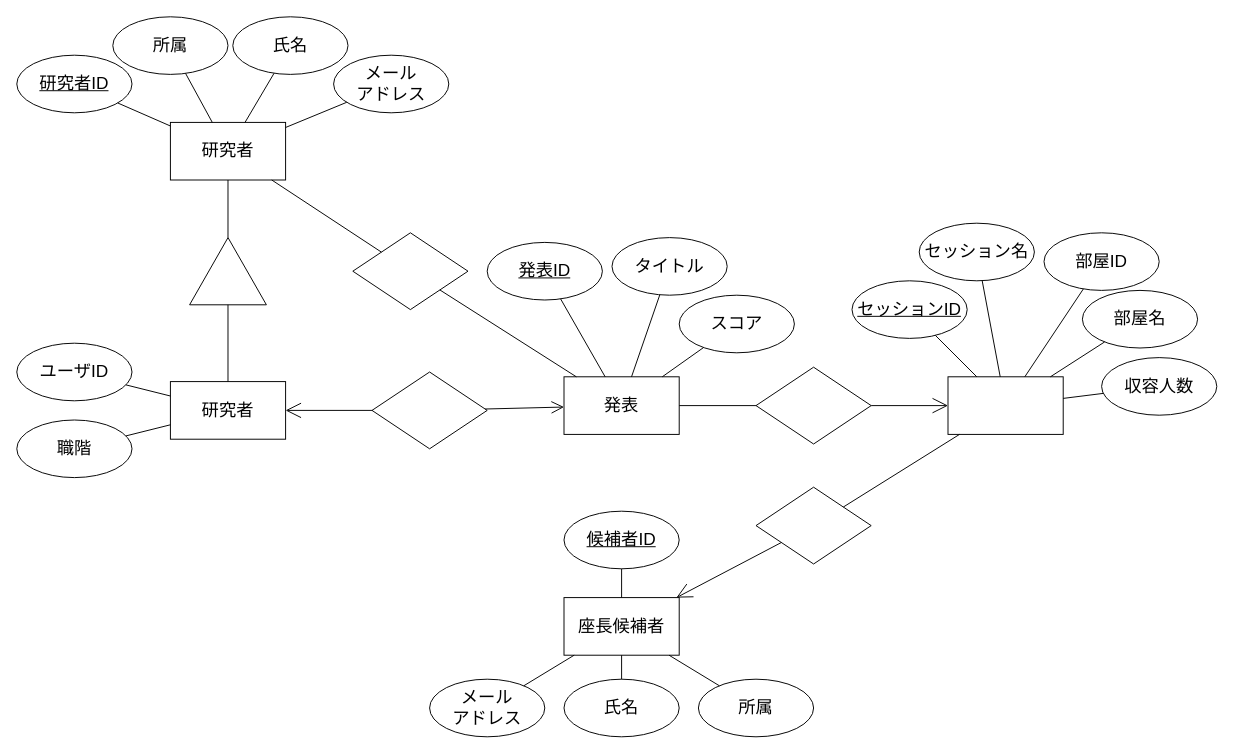
The diagram is 1234 pixels wide and 754 high, and some of its shapes have lost their labels. The shapes that lost their labels are listed below. From the top down, each one's box as (x1, y1, x2, y2) in pixels, then its label:
(189, 237, 266, 305): isa
(352, 232, 468, 310): 共同研究
(371, 371, 487, 449): 申し込み
(755, 366, 871, 444): 割り当て
(947, 376, 1063, 434): セッション
(755, 486, 871, 564): 座長担当
